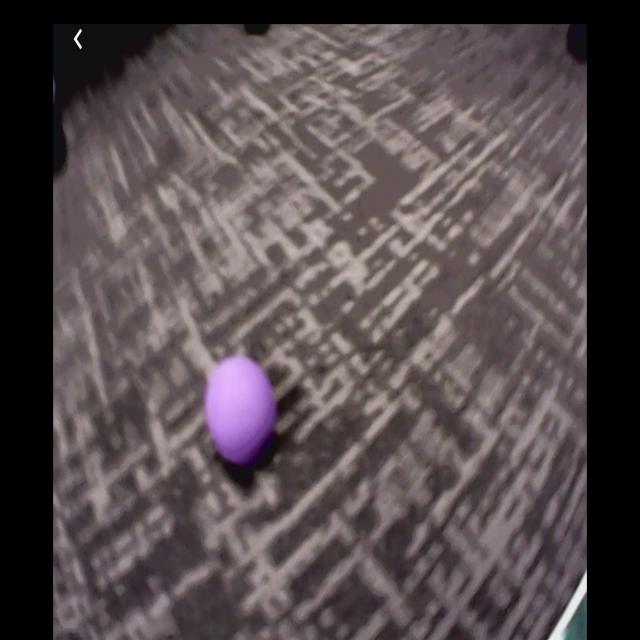ball: (208, 358, 275, 456)
